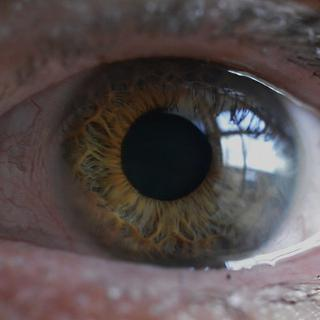pupil: (119, 110, 212, 202)
